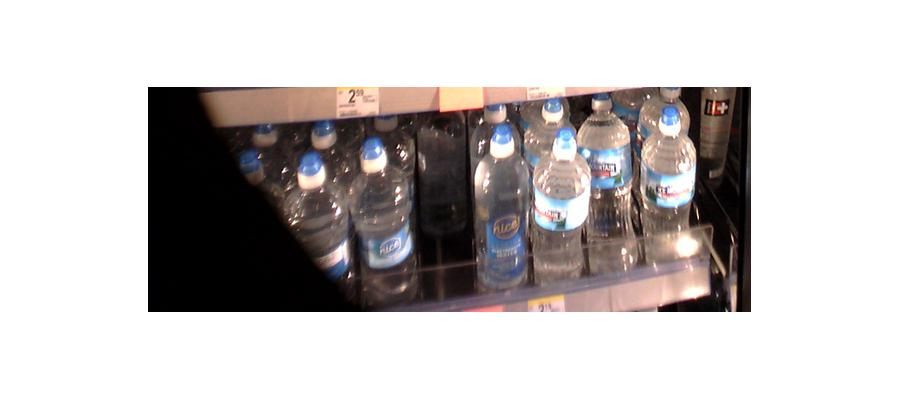bottle: (348, 121, 416, 305), (282, 137, 350, 287), (638, 100, 698, 268), (584, 99, 637, 274), (477, 119, 530, 289), (534, 125, 590, 282), (418, 119, 473, 276)
